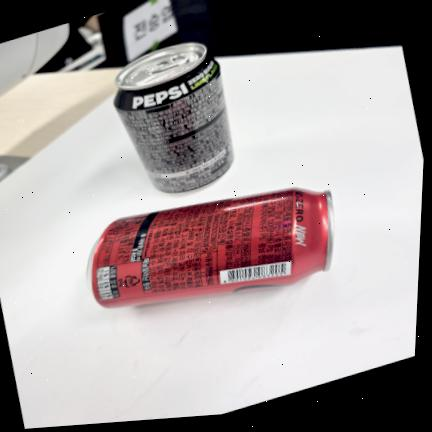can_coke_zero: (87, 186, 332, 312)
can_pepsi_zero: (114, 44, 235, 196)
